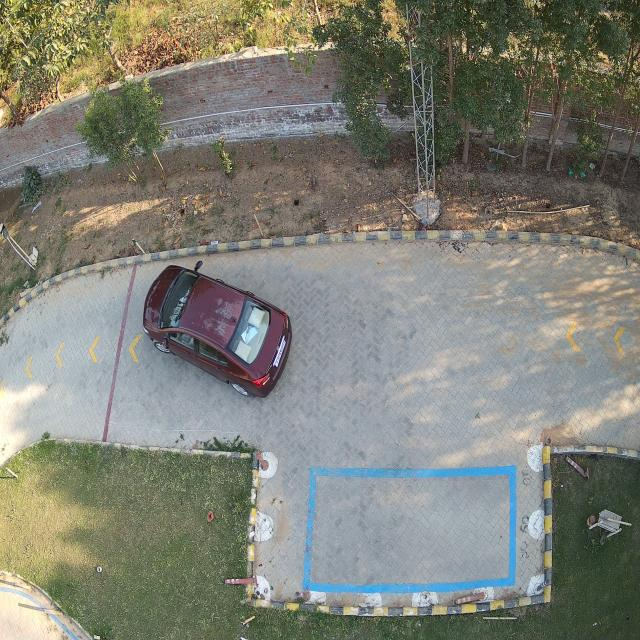car: (143, 265, 293, 400)
